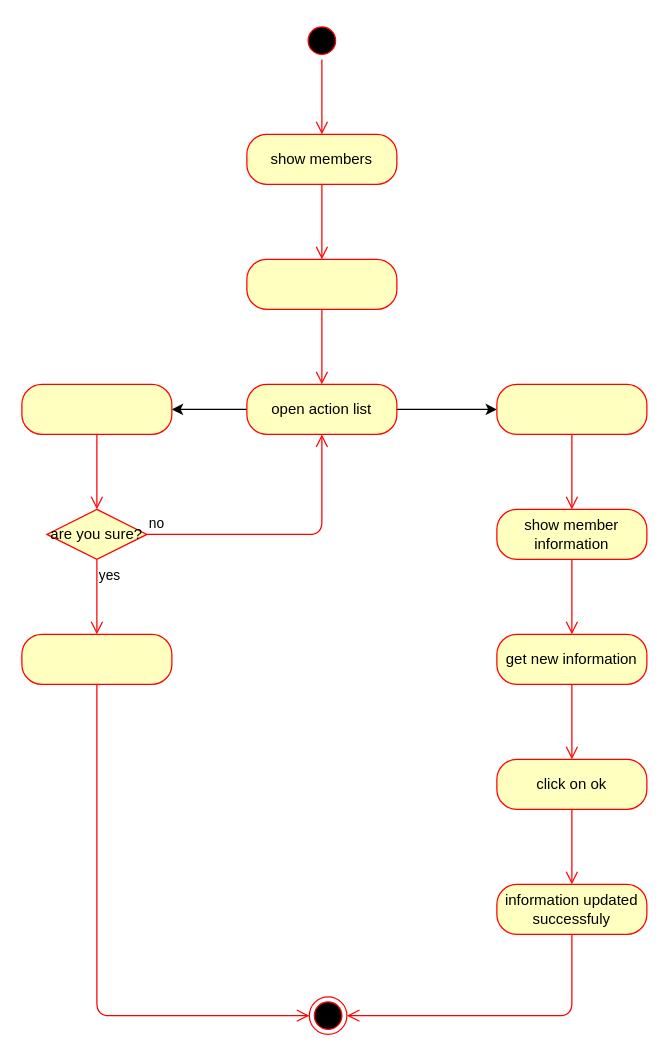
Image size: 669x1056. Some labels were removed from this diagram. The shapes that lost their labels are listed below. From the top down, each one's centre as x and y in pixels, then its label:
At (321,283): "choose member".
At (96,408): "click on delete".
At (571,408): "click on edit".
At (96,658): "member deleted successfuly".
